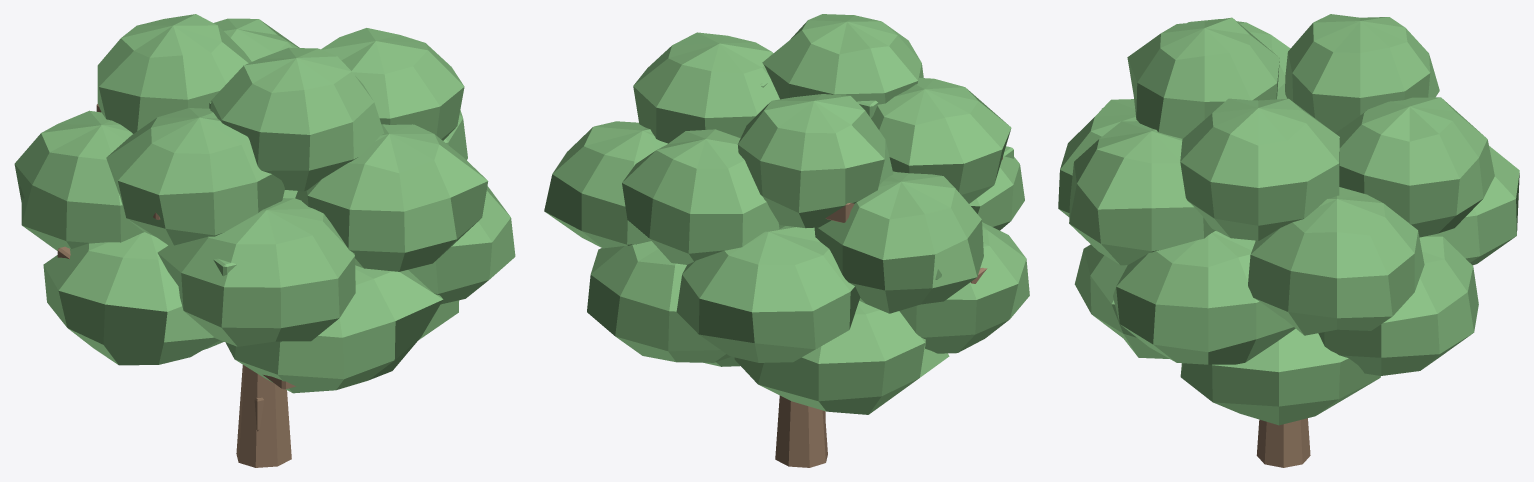
The model's file is b08_american_elm.glb.
3 views of the same model, side by side, from view 1: azimuth 30°, elevation 25°; view 2: azimuth 150°, elevation 25°; view 3: azimuth 270°, elevation 25° (orthographic). The views are drawn at different scales.
Parts seen in each view (by area): view 1: b08_american_elm; view 2: b08_american_elm; view 3: b08_american_elm.
Boxes of the visible parts, x1,y1,x2,y2 form: b08_american_elm: [14, 14, 515, 467]; b08_american_elm: [544, 14, 1029, 467]; b08_american_elm: [1058, 14, 1519, 467].
Size of the model in its own units: 6.63 by 6.23 by 6.15.
